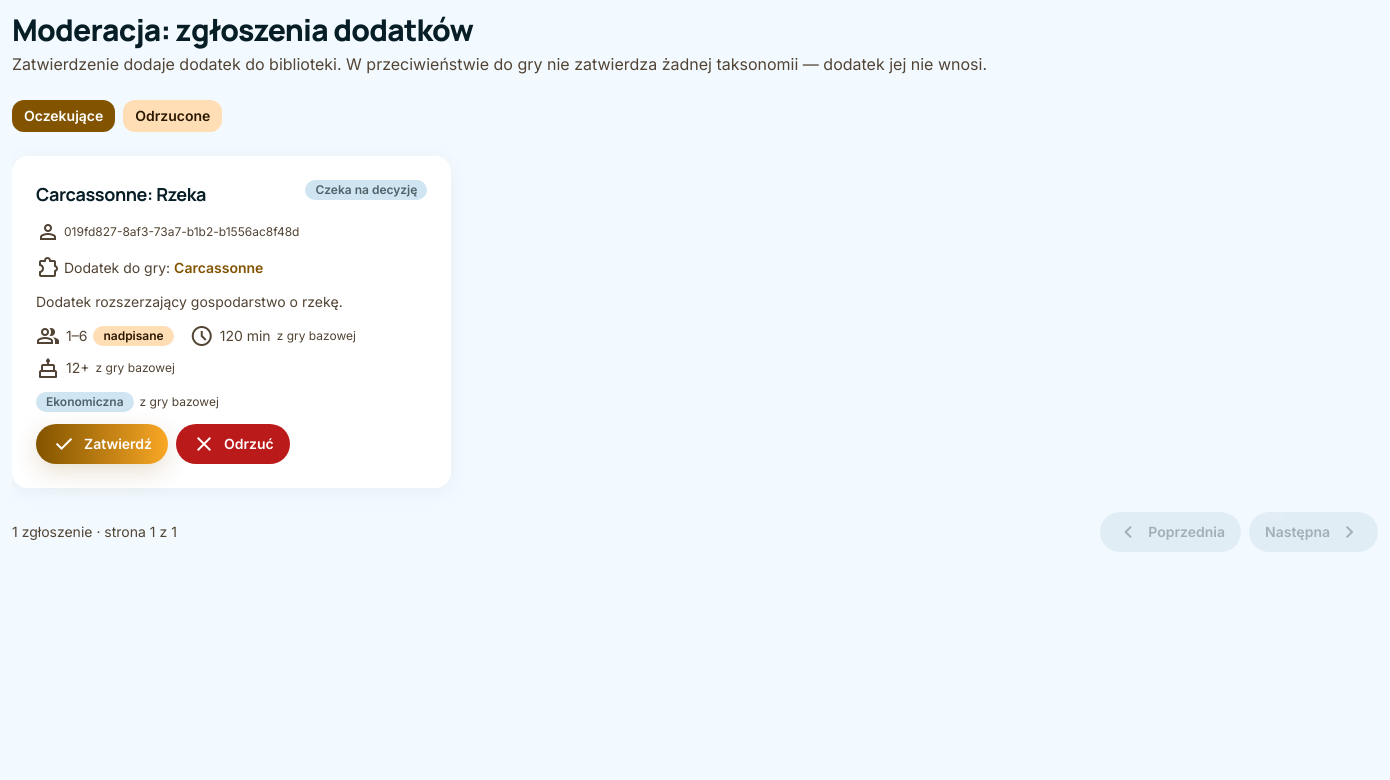
Test: ExpansionModerationPage › kolejka odrzuconych pozwala odblokować dodatek autorowi
This screenshot has width=1390, height=780.
Step 1. Click the button "Odrzucone" → [173, 116], box 123,100 -> 222,132
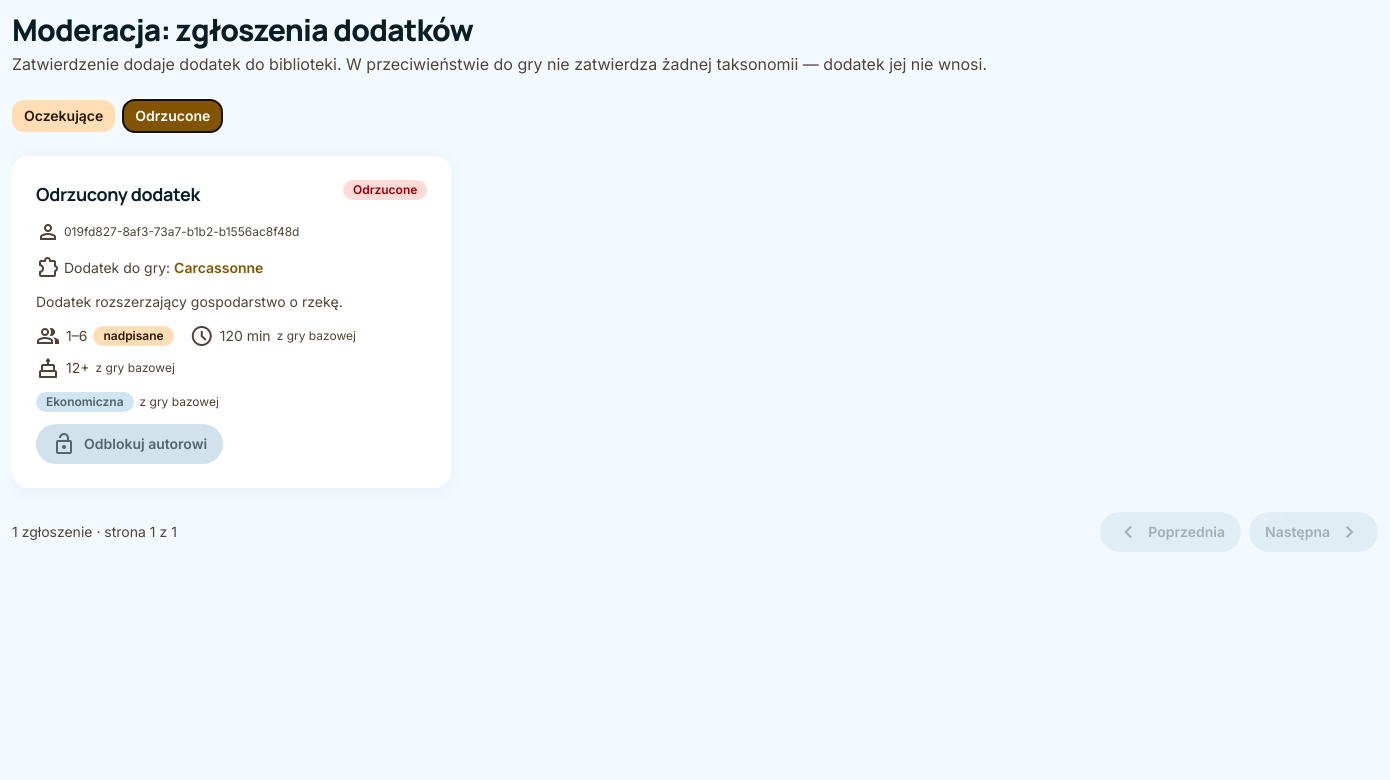
Now the heading "Odrzucony dodatek" is shown, box 36,180 -> 200,208
Step 2. Click the button "Odblokuj autorowi" → [130, 444], box 36,424 -> 223,464
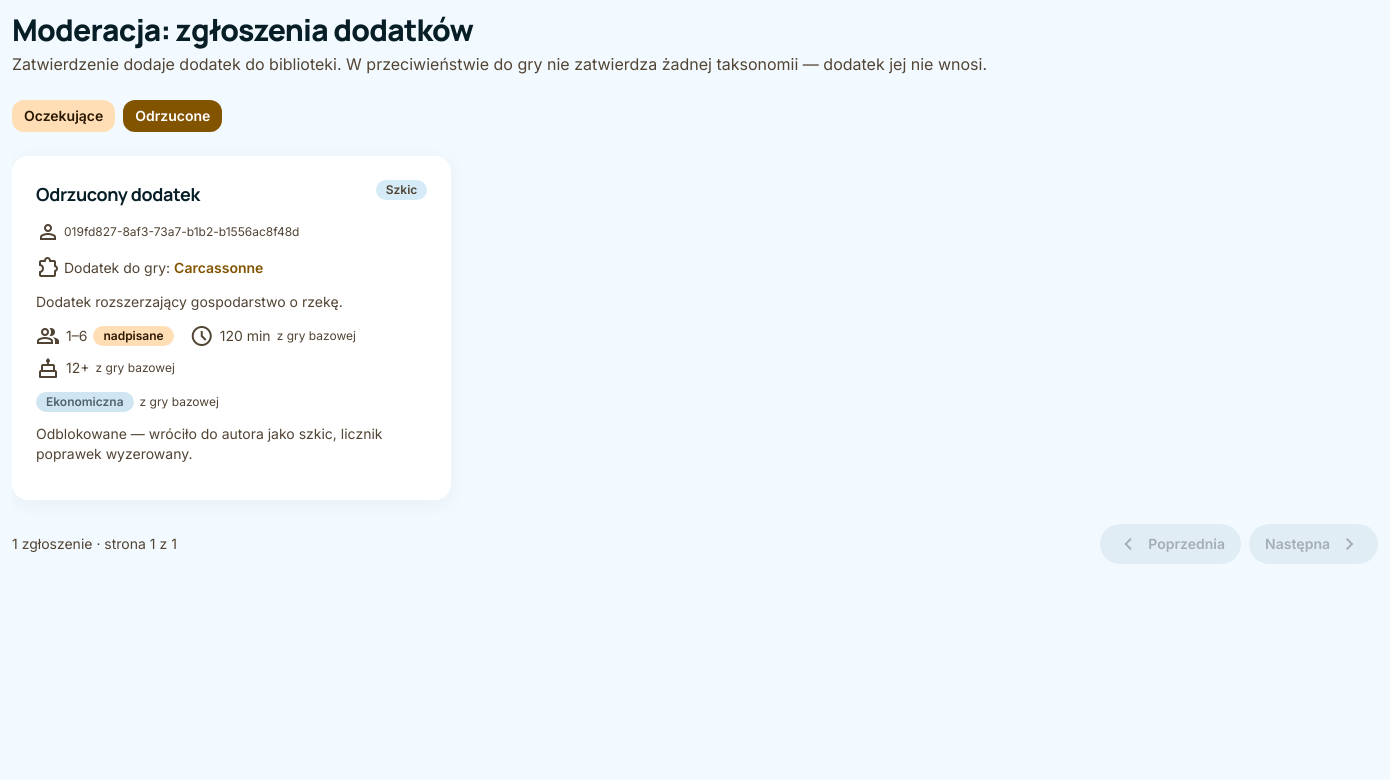
Now the text "licznik poprawek wyzerowany" is shown, box 36,425 -> 382,462
